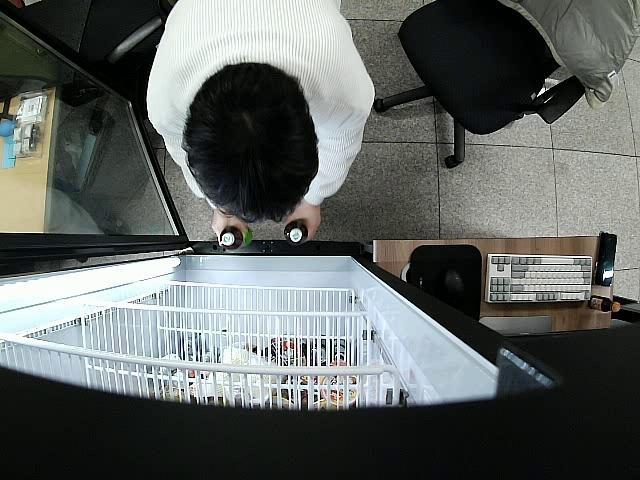19_17cha: (220, 225, 254, 253), (286, 222, 308, 244)
